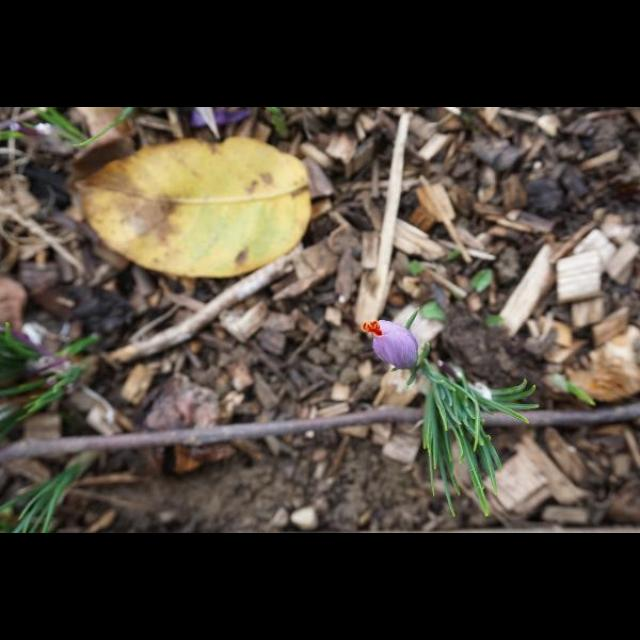flower: (361, 318, 419, 369)
